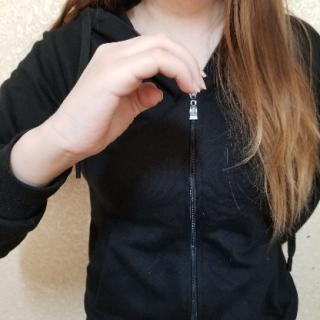JEEM: (52, 28, 211, 174)
